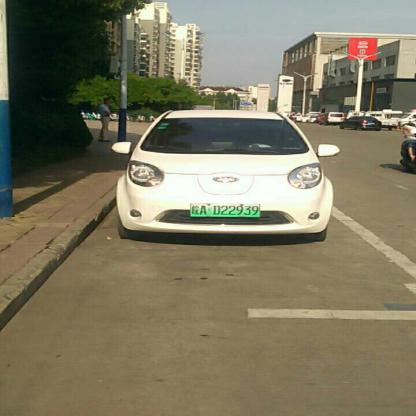lp: (190, 203, 260, 216)
